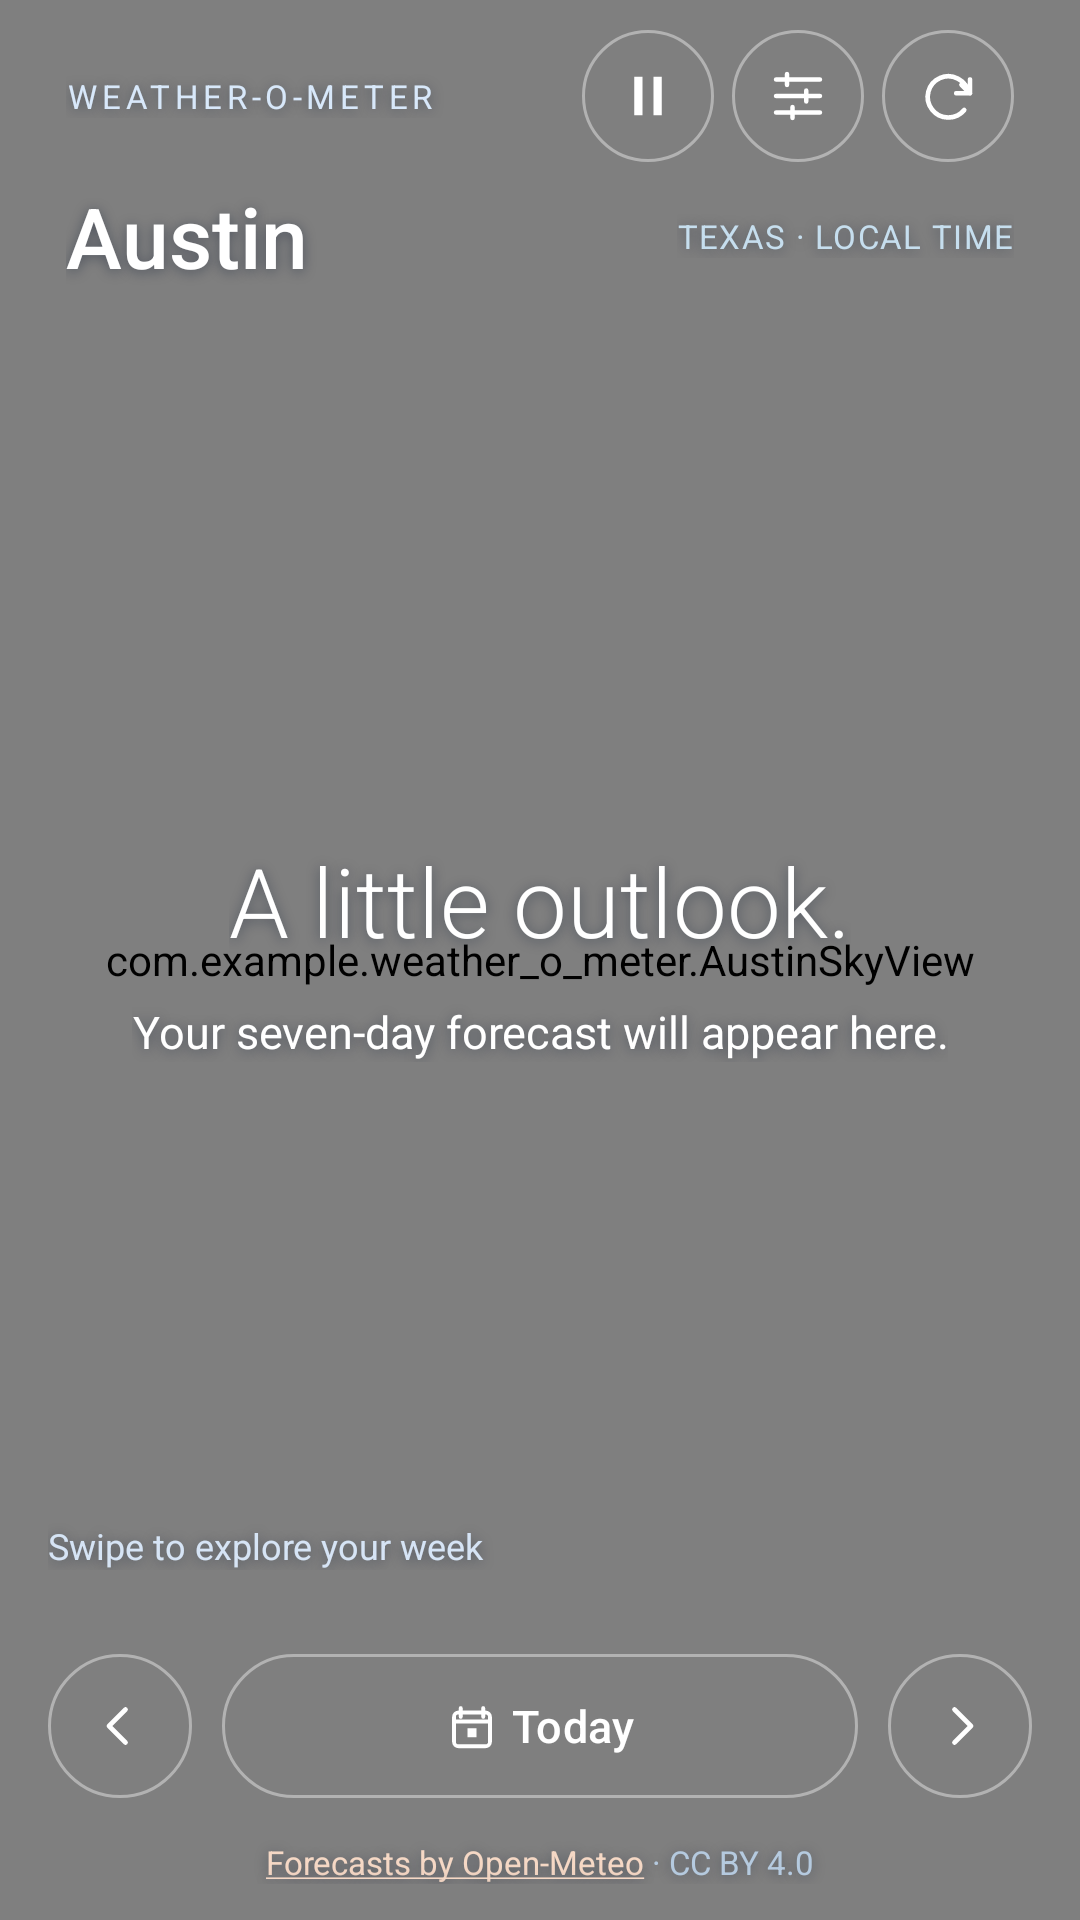

Where icons sit on this 1080x1920 app screen, as (x1, y1, x2, y2):
Next day: (888, 1654, 1032, 1798)
Pause weather animation: (582, 30, 714, 162)
Previous day: (48, 1654, 192, 1798)
Refresh forecast: (882, 30, 1014, 162)
